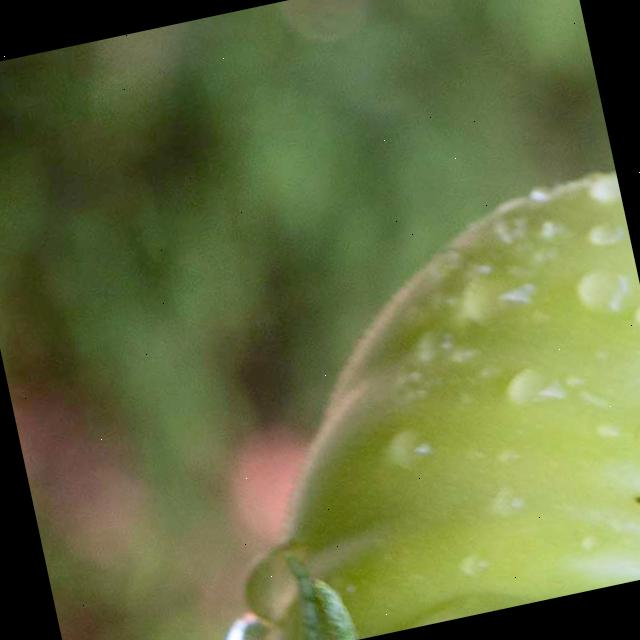tomato: (180, 58, 640, 640)
